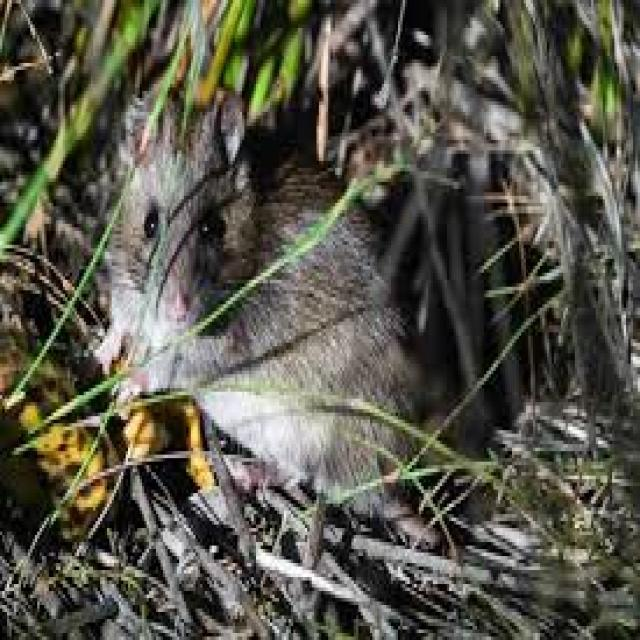Rat: (86, 58, 449, 550)
